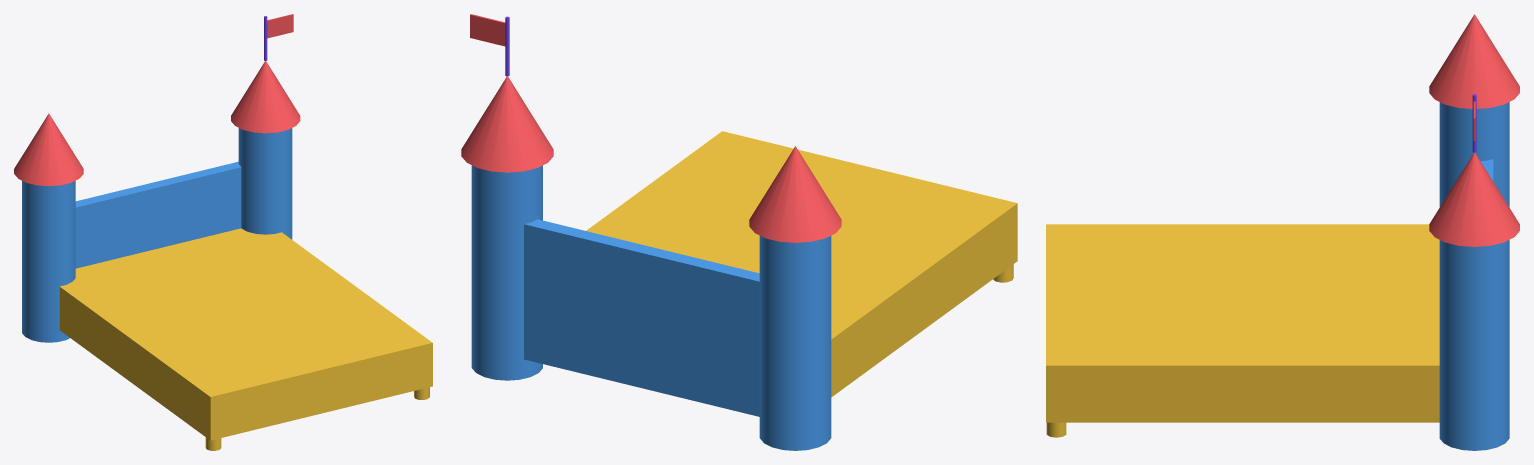
Rendered from bed_fun_0.glb.
3 renders of one model, left to right at view 1: azimuth 30°, elevation 25°; view 2: azimuth 150°, elevation 25°; view 3: azimuth 270°, elevation 25°, orthographic. The views are drawn at different scales.
Size of the model in its own units: 2 by 1.8 by 2.27.
